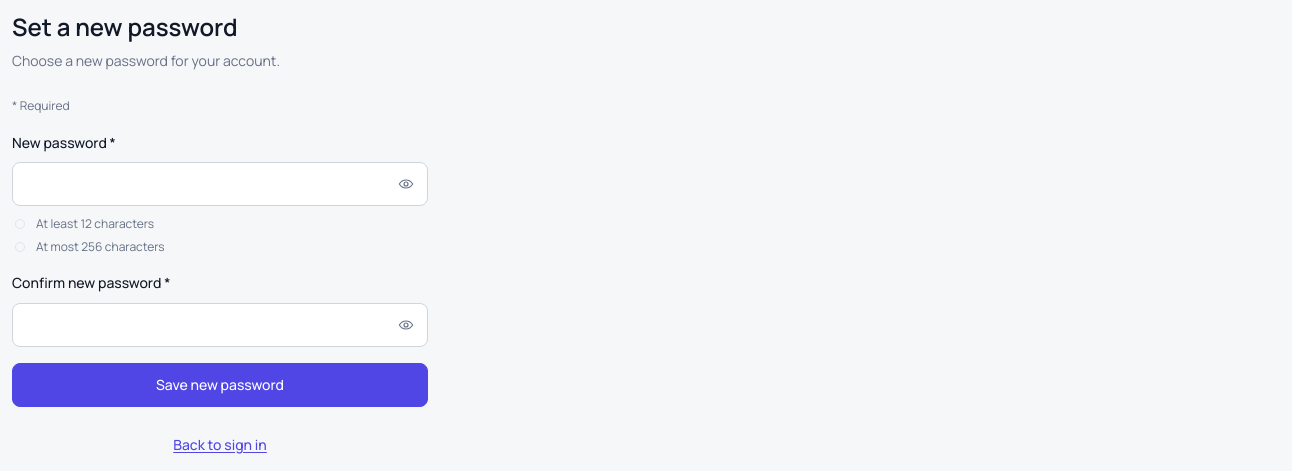
Test case: ResetPasswordForm › offers a new link, not a retry, when the API says the token is dead
Step 1. Type "a-perfectly-fine-passphrase" into the password field labelled "New password *" → (220, 184), box [12,162,428,206]
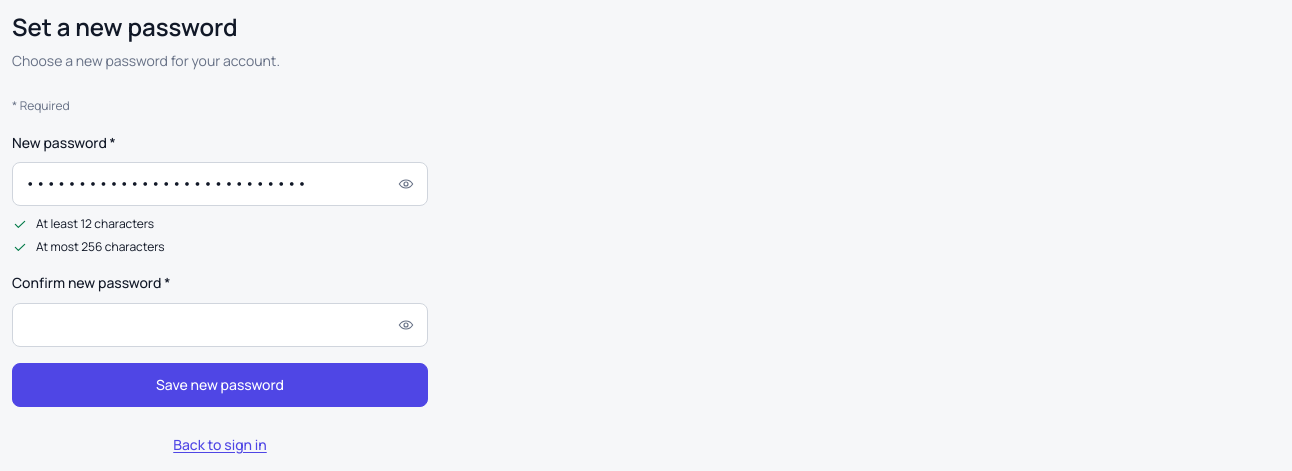
Step 2. Type "a-perfectly-fine-passphrase" into the password field labelled "Confirm new password *" → (220, 325), box [12,303,428,347]
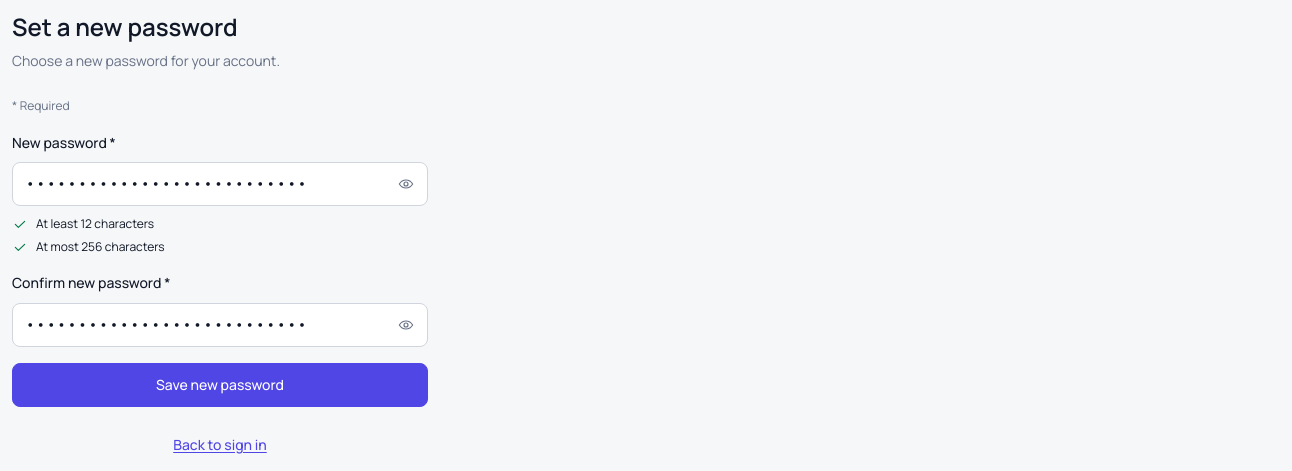
Step 3. Click the button "Save new password" → (220, 385), box [12,363,428,407]
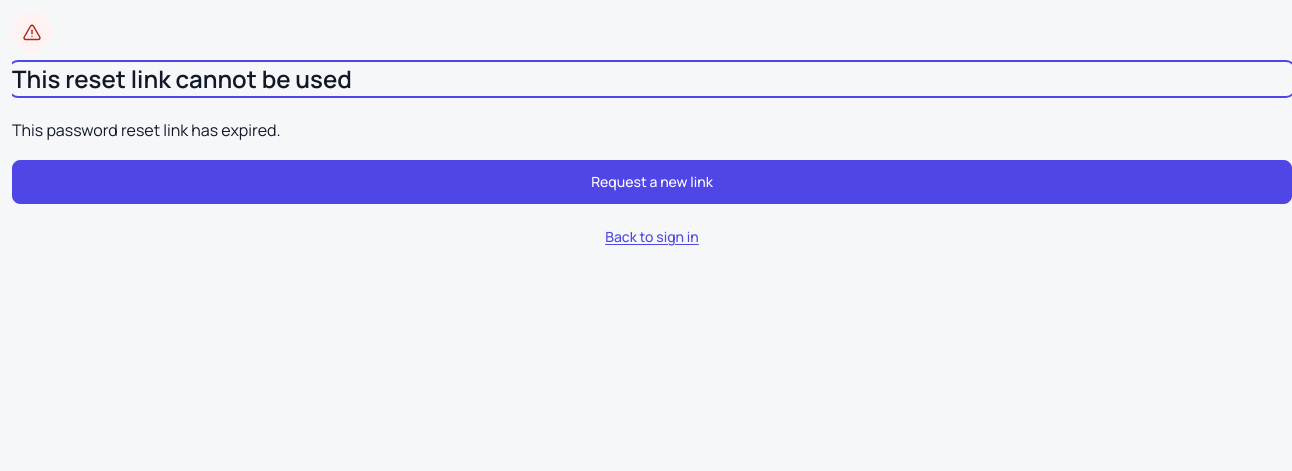
Result: the heading "This reset link cannot be used" is shown at [12,62,352,95]
Result: the text "This password reset link has expired." is shown at [12,119,280,141]
Result: the link "Request a new link" is shown at [12,160,1291,204]
